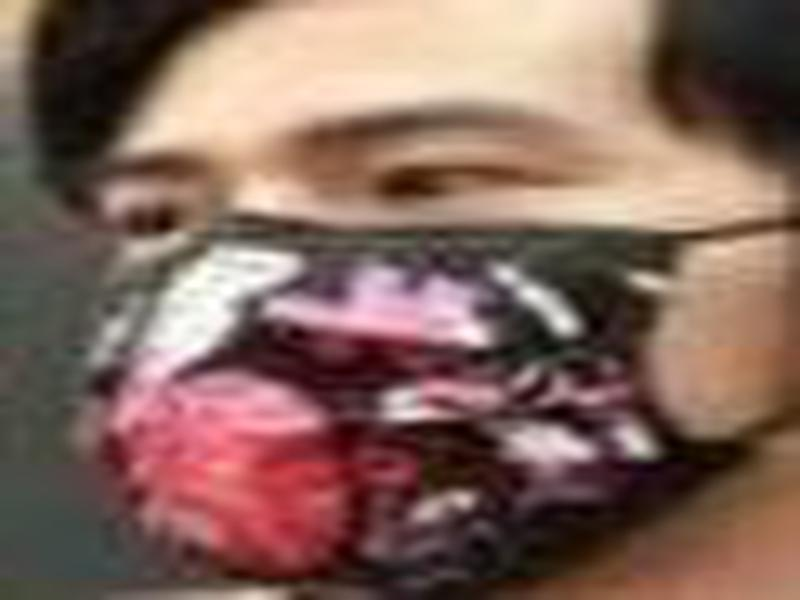with_mask: (36, 1, 800, 600)
